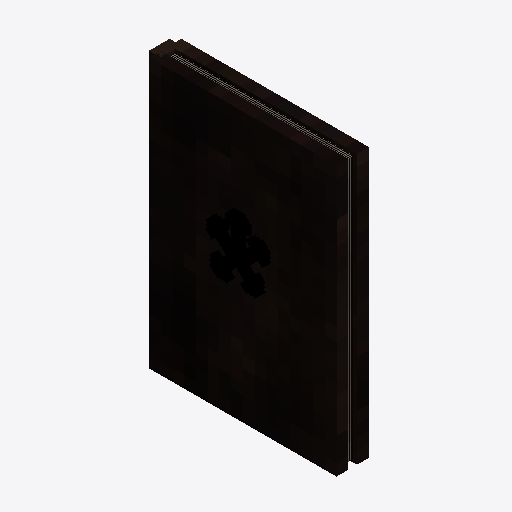
Isometric view (azimuth 45°, elevation 35.3°) of a Minecraft model made of 25 cuboids, textured from the same repository.
Visible parts, largest first — element 1, element 4, element 5.
Boxes of the visible parts, x1,y1,x2,y2 form: element 1: [149, 51, 347, 476]; element 4: [170, 39, 368, 463]; element 5: [171, 53, 352, 461].
Bounding box in the file's own units: 3.25 × 23 × 16.5.